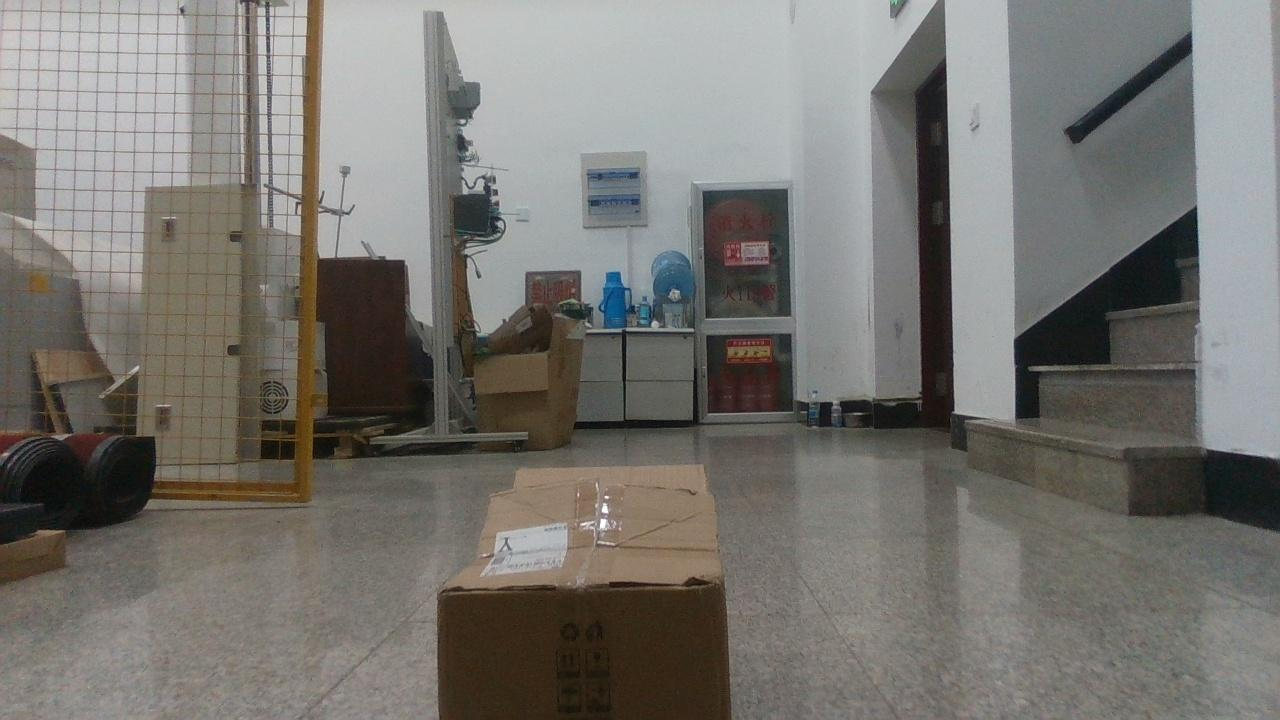box: (438, 465, 730, 719)
